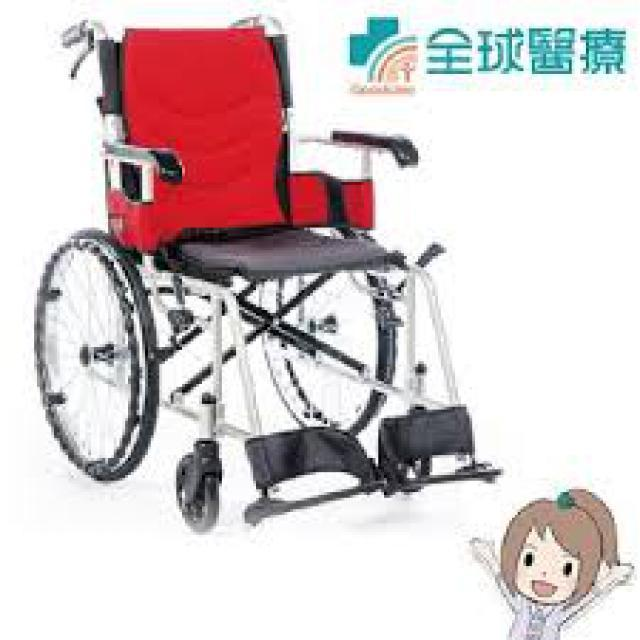wheelchair: (19, 11, 524, 532)
